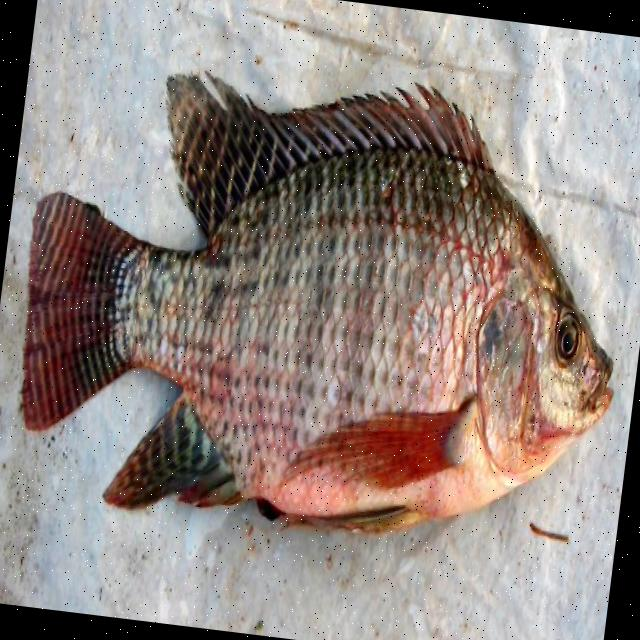ikan: (0, 34, 640, 566)
